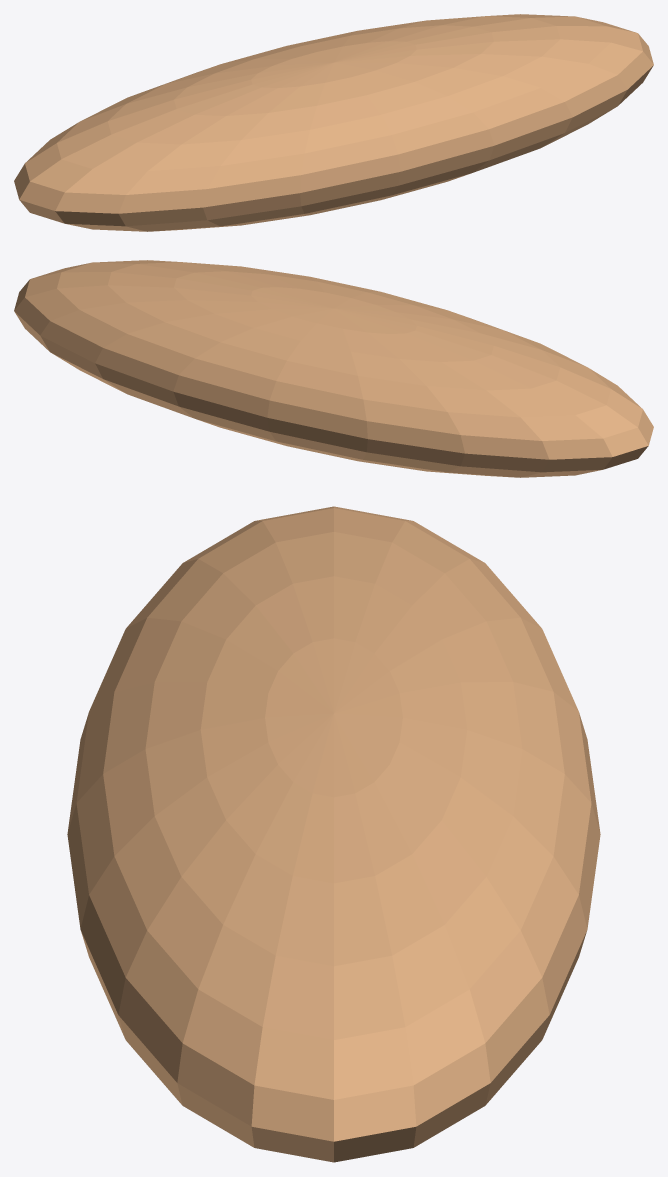
File: SM_Dune_Low.fbx
The picture shows the model from 3 angles, top to bottom: view 1: azimuth 30°, elevation 25°; view 2: azimuth 150°, elevation 25°; view 3: azimuth 270°, elevation 25°; orthographic projection. The views are drawn at different scales.
Parts seen in each view (by area): view 1: SM_Dune_Low; view 2: SM_Dune_Low; view 3: SM_Dune_Low.
Part boxes in pixels (x1,y1,x2,y2): SM_Dune_Low: (14, 14, 653, 231); SM_Dune_Low: (14, 260, 653, 477); SM_Dune_Low: (67, 506, 600, 1162).
Bounding box in the file's own units: 6 × 1.1 × 2.2.
